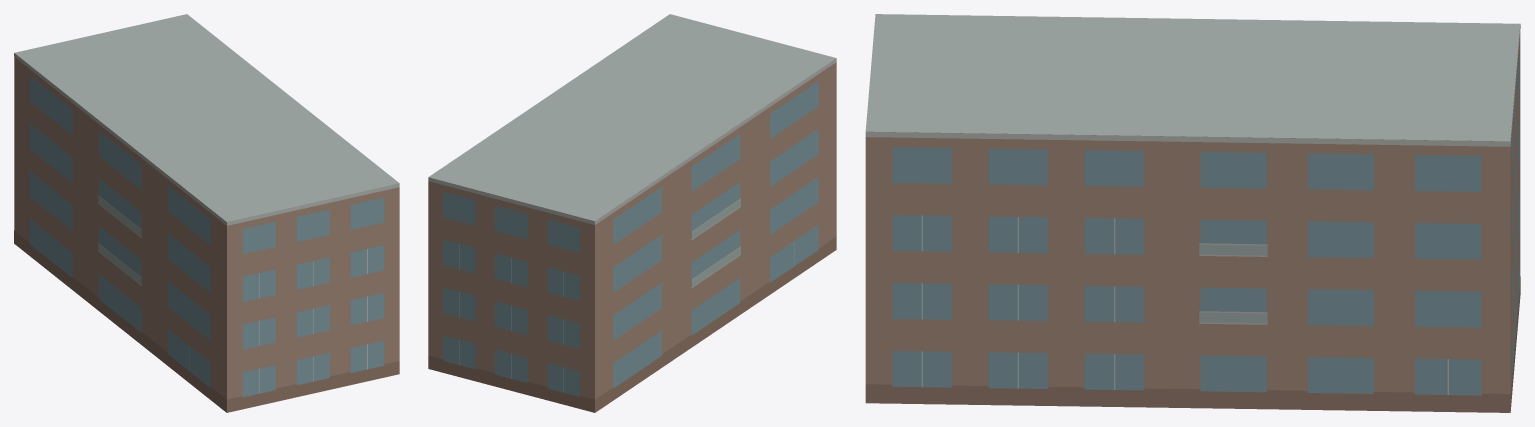
File: residential-463bbcc7-4989-43aa-817c-19fe95af50ee.glb
3 views of the same model, side by side, from view 1: azimuth 30°, elevation 25°; view 2: azimuth 150°, elevation 25°; view 3: azimuth 270°, elevation 25° (orthographic). The views are drawn at different scales.
Visible parts, largest first — view 1: residential-463bbcc7-4989-43aa-817c-19fe95af50ee.tmp; view 2: residential-463bbcc7-4989-43aa-817c-19fe95af50ee.tmp; view 3: residential-463bbcc7-4989-43aa-817c-19fe95af50ee.tmp.
Part boxes in pixels (<box>): residential-463bbcc7-4989-43aa-817c-19fe95af50ee.tmp: <box>14,14,399,412</box>; residential-463bbcc7-4989-43aa-817c-19fe95af50ee.tmp: <box>428,14,836,412</box>; residential-463bbcc7-4989-43aa-817c-19fe95af50ee.tmp: <box>865,14,1520,412</box>.
Bounding box in the file's own units: 12.28 × 12.2 × 26.67.
